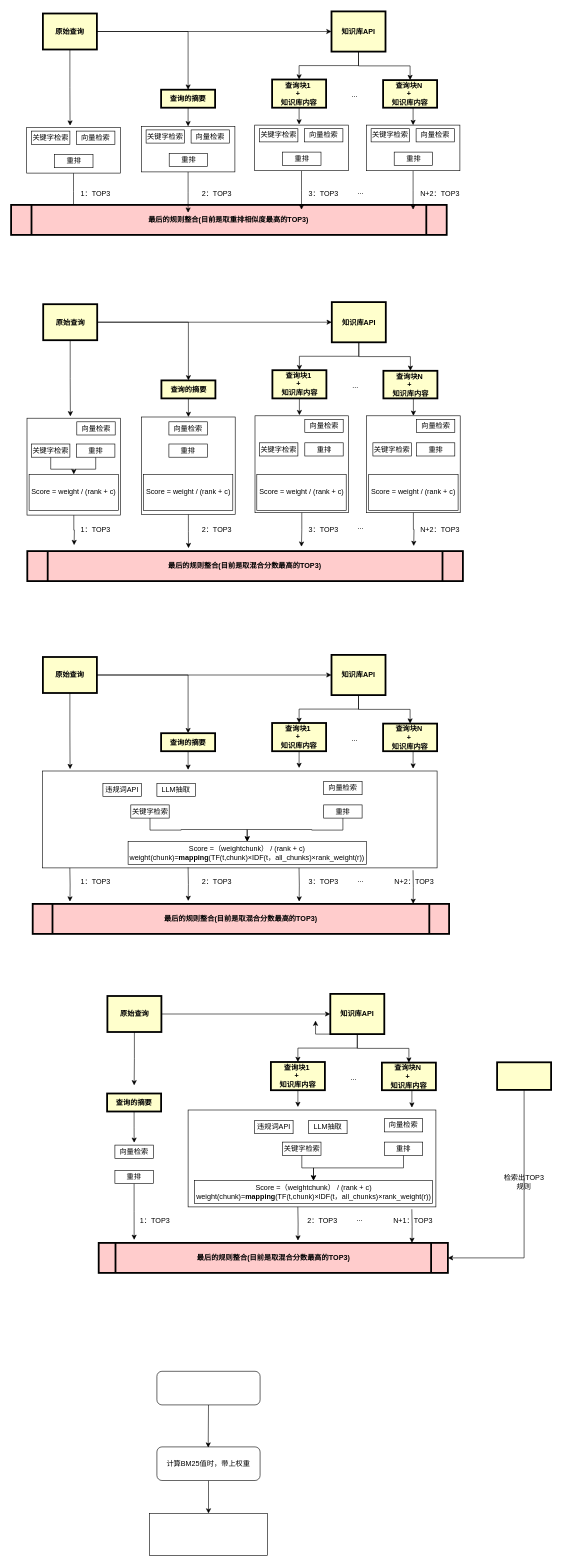
Some shapes in this 562 by 1566 pixel diagram are drawn without their labels. The shapes that lost their labels are listed below. From the top down, each one's box as (x1, y1, x2, y2) in pixels, then its label:
(496, 1061, 552, 1090): 查询块N + 知识图谱内容
(156, 1371, 260, 1405): {"首次导入"：1.1， "A":1.3}
(149, 1513, 268, 1556): weight= mapping (带权重的BM25值) Score =（weight） / (rank + c)
